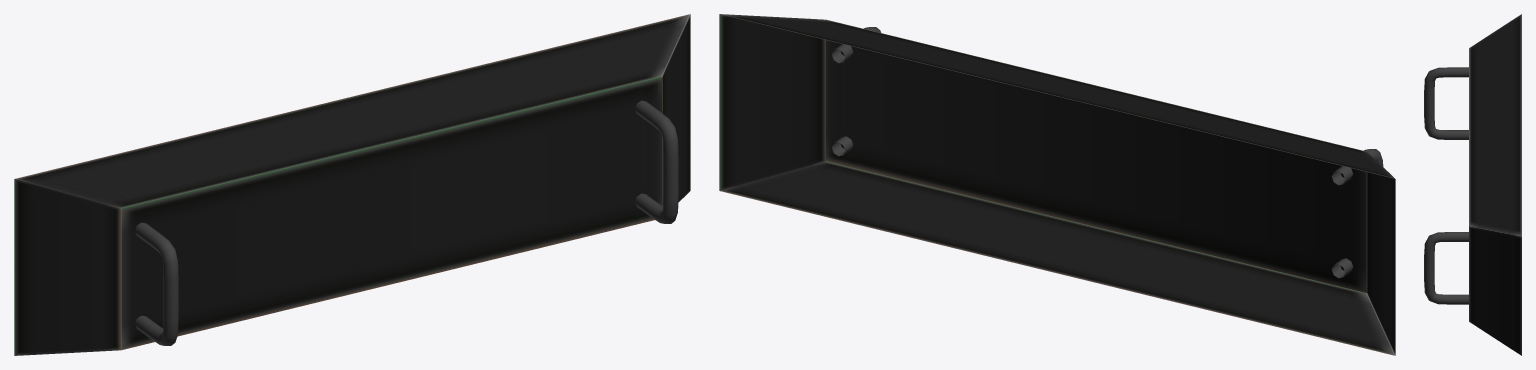
File: Penalty Bulb Base.fbx
The picture shows the model from 3 angles, left to right: view 1: azimuth 30°, elevation 25°; view 2: azimuth 150°, elevation 25°; view 3: azimuth 270°, elevation 25°; orthographic projection. The views are drawn at different scales.
Visible parts, largest first — view 1: Penalty Bulb Base; view 2: Penalty Bulb Base; view 3: Penalty Bulb Base.
Part boxes in pixels (bbox=[...]): Penalty Bulb Base: bbox=[14, 14, 690, 355]; Penalty Bulb Base: bbox=[719, 14, 1395, 355]; Penalty Bulb Base: bbox=[1424, 14, 1521, 355].
Bounding box in the file's own units: 400 × 100 × 74.17.
